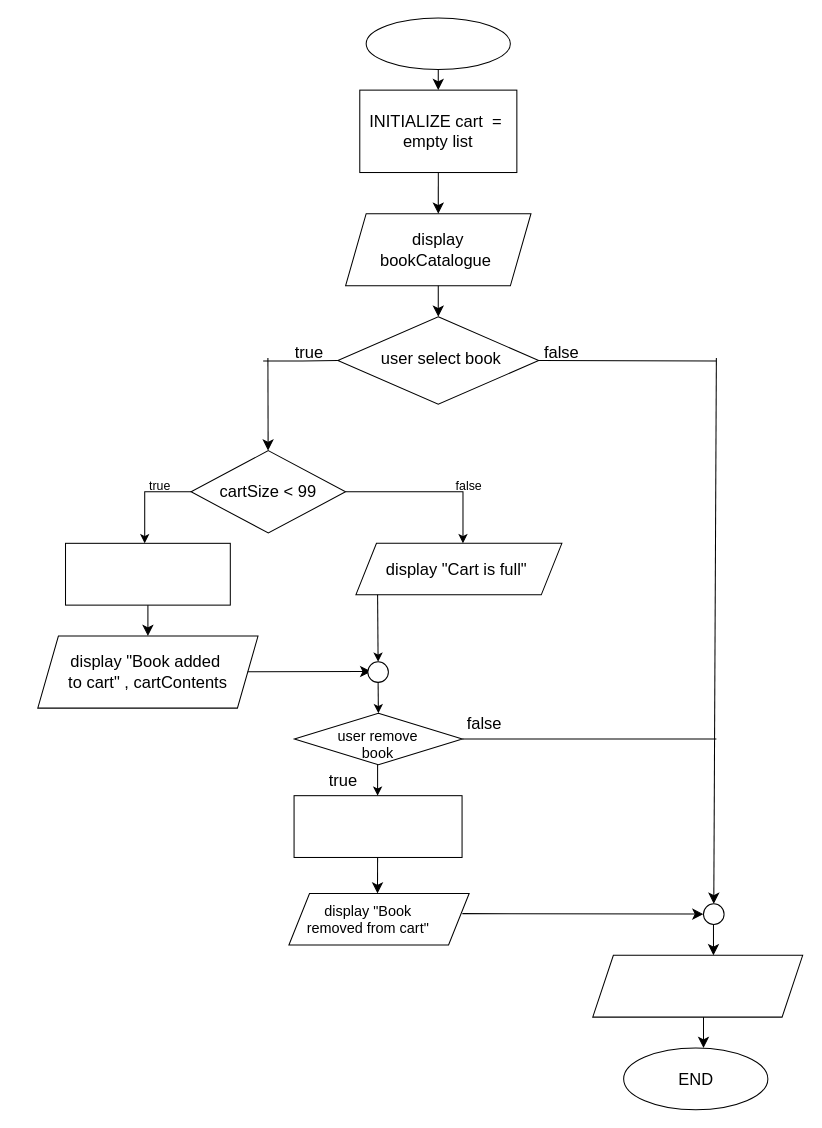
The diagram is 822 pixels wide and 1128 high, and some of its shapes have lost their labels. The centre of each missing label's shape, as x and y in pixels:
add selectedBook to cart: (x=147, y=573)
display updatedCartContents: (x=697, y=985)
SELECT and REMOVE bookToRemove from cart: (x=377, y=826)
START: (x=437, y=43)
